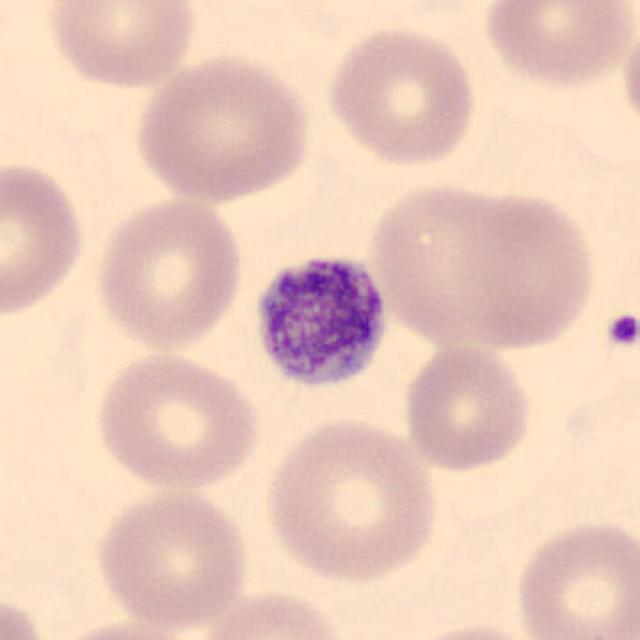Platelets: (244, 242, 396, 404), (601, 308, 640, 352)
RBC: (260, 413, 444, 587), (128, 50, 316, 206), (366, 176, 532, 351), (89, 347, 265, 494), (89, 192, 247, 354), (450, 187, 601, 354), (320, 21, 482, 171), (89, 483, 252, 631), (398, 340, 537, 474), (508, 515, 638, 640), (0, 155, 91, 323), (39, 0, 201, 92), (476, 0, 636, 92), (185, 585, 355, 640), (41, 617, 201, 640), (391, 619, 549, 640), (617, 5, 640, 140), (0, 589, 53, 640)
